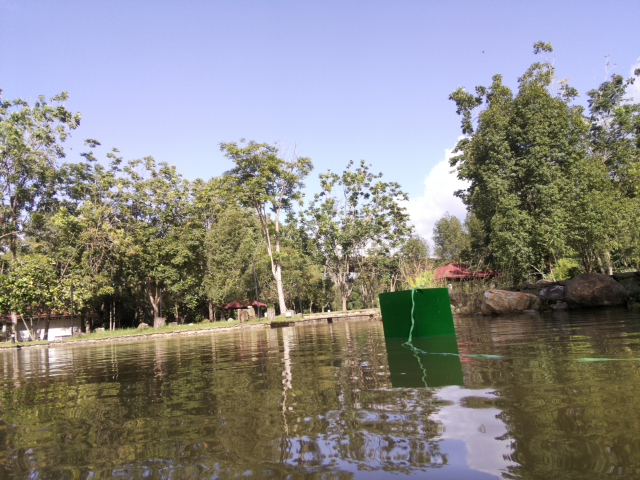obstacle: (378, 287, 455, 338)
